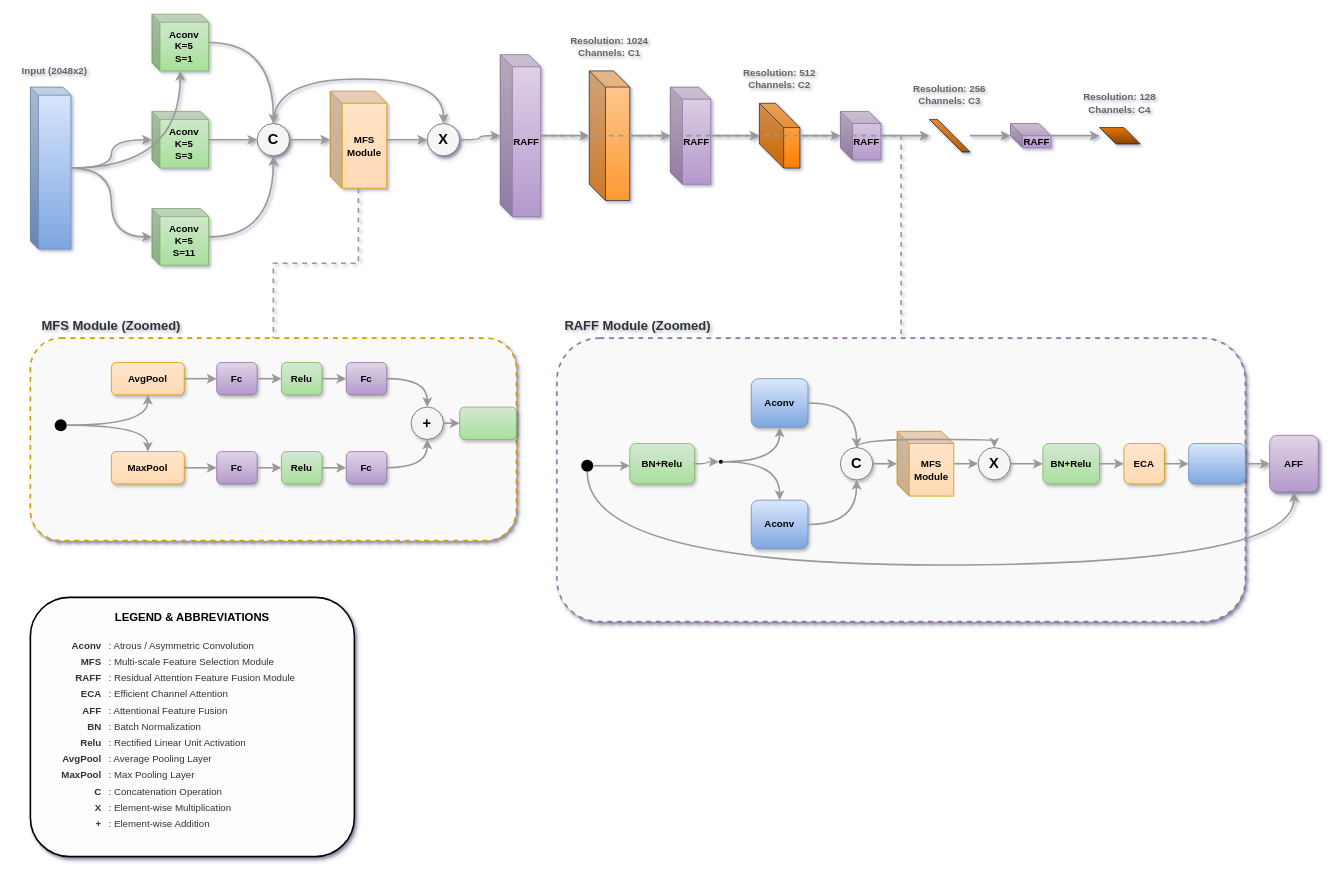
The diagram is 1342 pixels wide and 882 high, and some of its shapes have lost their labels. The centre of each missing label's shape, as x and y in pixels:
"Conv1D" belongs at point 1217,464.
"F1 1024 x C1" belongs at point 609,135.
"F2 512 x C2" belongs at point 779,135.
"F3 256 x C3" belongs at point 949,135.
"F4 128 x C4" belongs at point 1119,135.
"IQ Signal 2048x2" belongs at point 50,167.
"Sigmoid" belongs at point 488,424.
